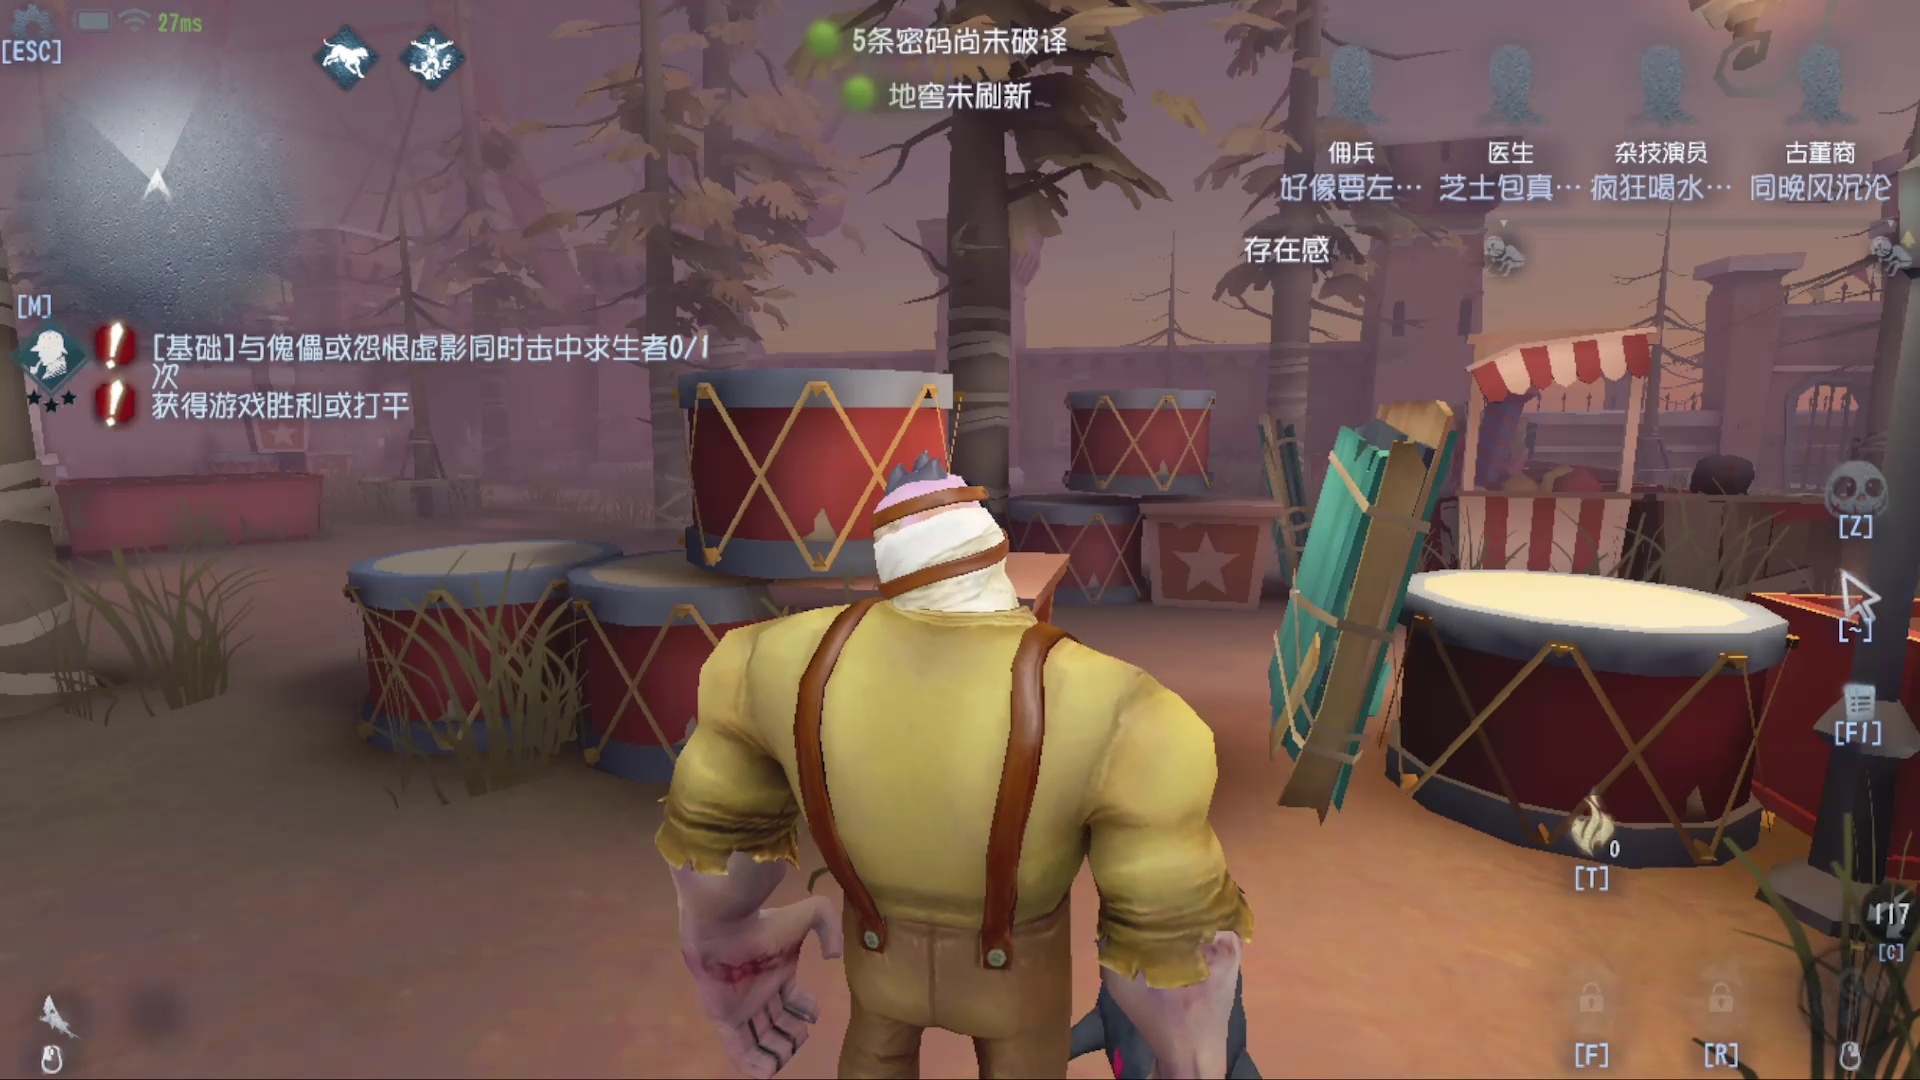木板: (1292, 402, 1433, 823), (1250, 405, 1315, 613)
